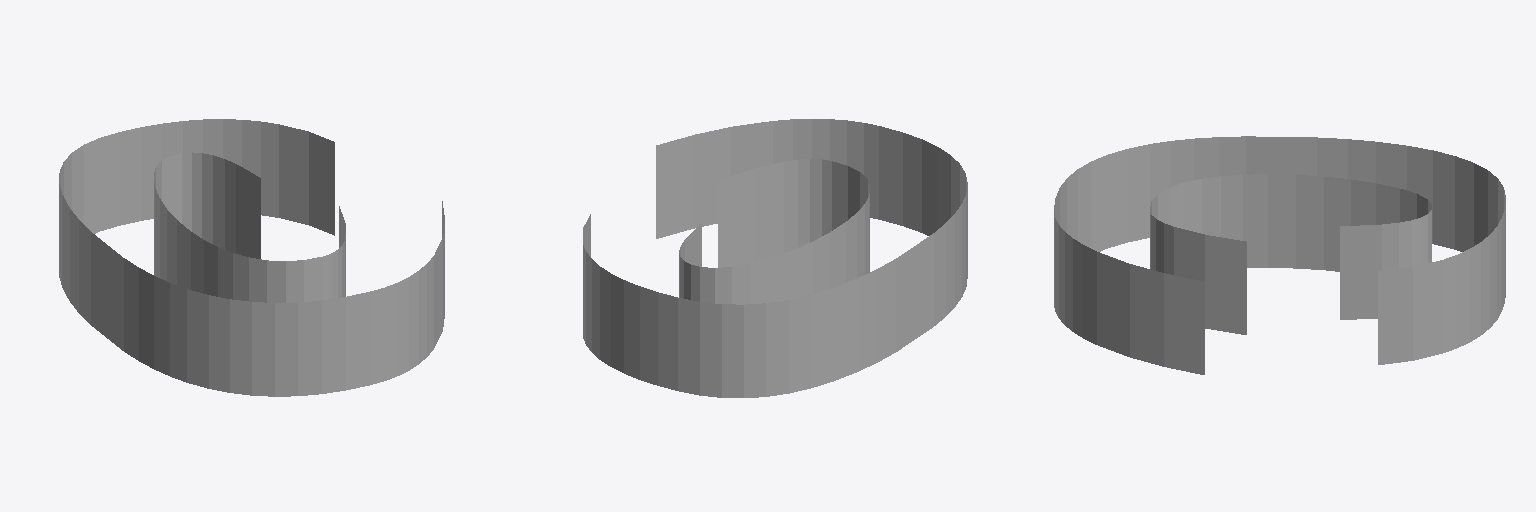
Rendered from pool-c1.obj.
3 views of the same model, side by side, from view 1: azimuth 30°, elevation 25°; view 2: azimuth 150°, elevation 25°; view 3: azimuth 270°, elevation 25° (orthographic).
Size of the model in its own units: 1.66 by 0.5 by 2.18.